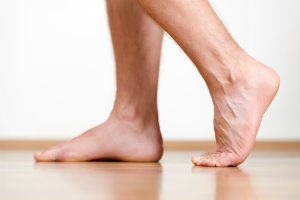feet: (20, 95, 168, 167), (187, 62, 281, 170)
